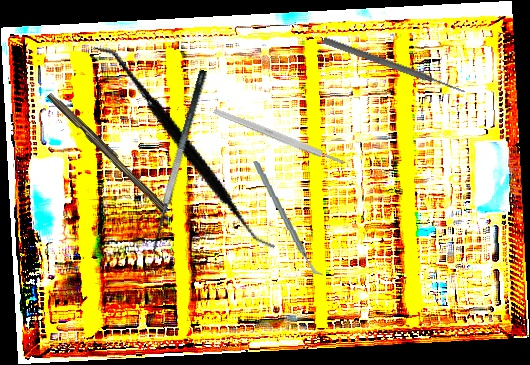Chopper: (253, 156, 324, 282)
Pusher: (321, 35, 467, 97)
Scalpel Handle: (44, 90, 173, 214), (212, 107, 346, 167)
Spatula Surgical: (49, 43, 319, 252), (142, 69, 224, 260)
